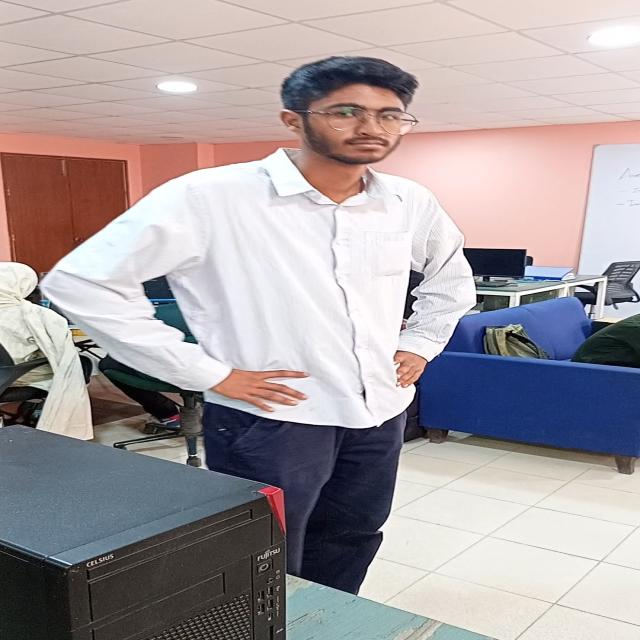dress: (49, 145, 475, 583)
glasses: (314, 95, 428, 137)
